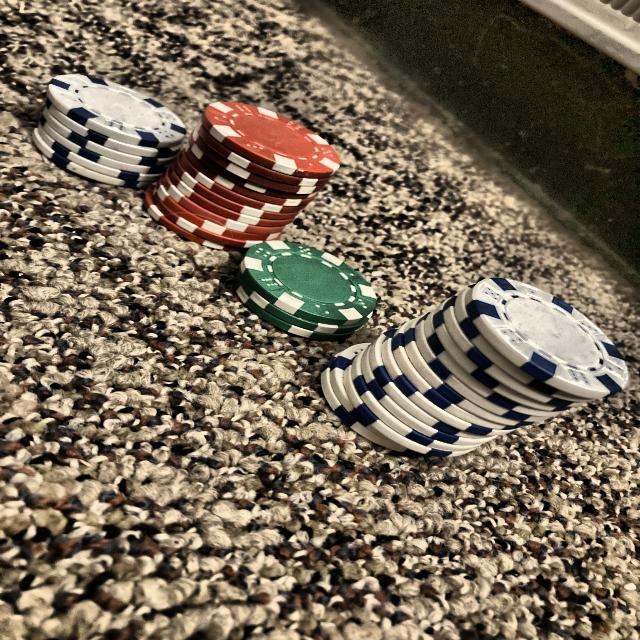Chip: (310, 252, 640, 469), (138, 68, 356, 268), (35, 51, 196, 202), (236, 215, 378, 361)
